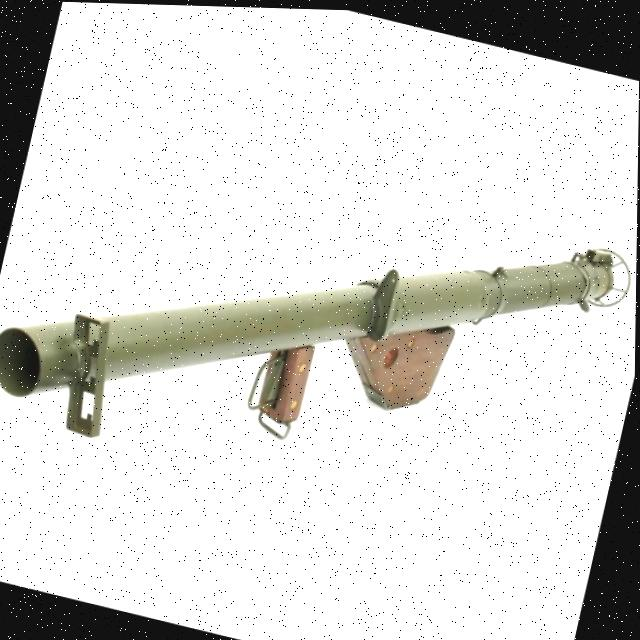rocket: (0, 85, 639, 560)
